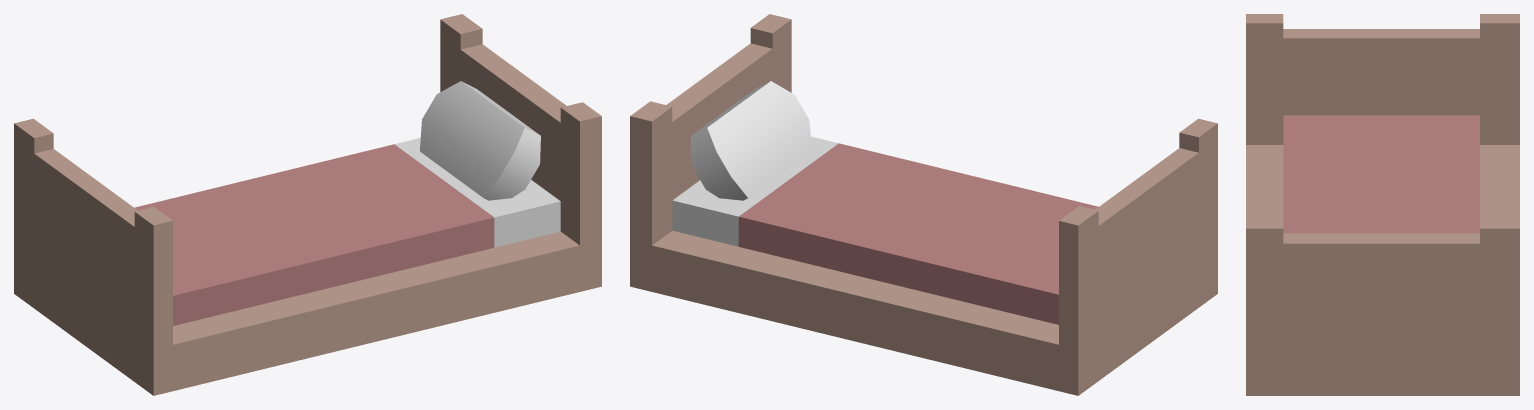
The model's file is bed.fbx.
The picture shows the model from 3 angles, left to right: view 1: azimuth 30°, elevation 25°; view 2: azimuth 150°, elevation 25°; view 3: azimuth 270°, elevation 25°; orthographic projection.
Parts seen in each view (by area): view 1: pCube40, pCube41; view 2: pCube40, pCube41; view 3: pCube40.
Boxes of the visible parts, x1,y1,x2,y2 form: pCube40: (14,14,601,395); pCube41: (420,81,540,200); pCube40: (630,14,1217,395); pCube41: (691,81,811,200); pCube40: (1246,14,1519,395).
Bounding box in the file's own units: 3.06 × 1.11 × 1.65.
